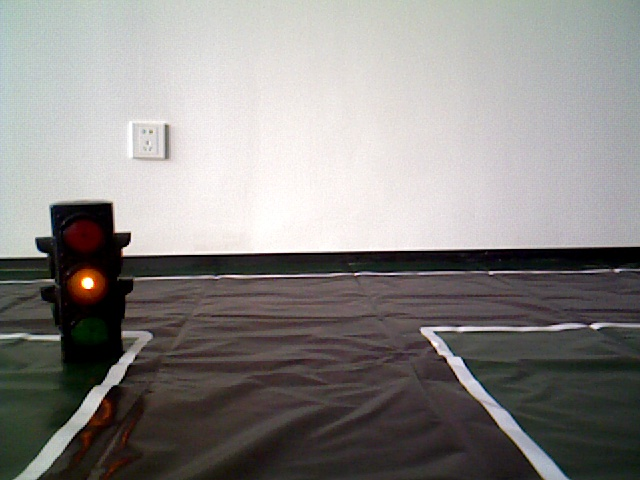yellow: (46, 199, 127, 359)
